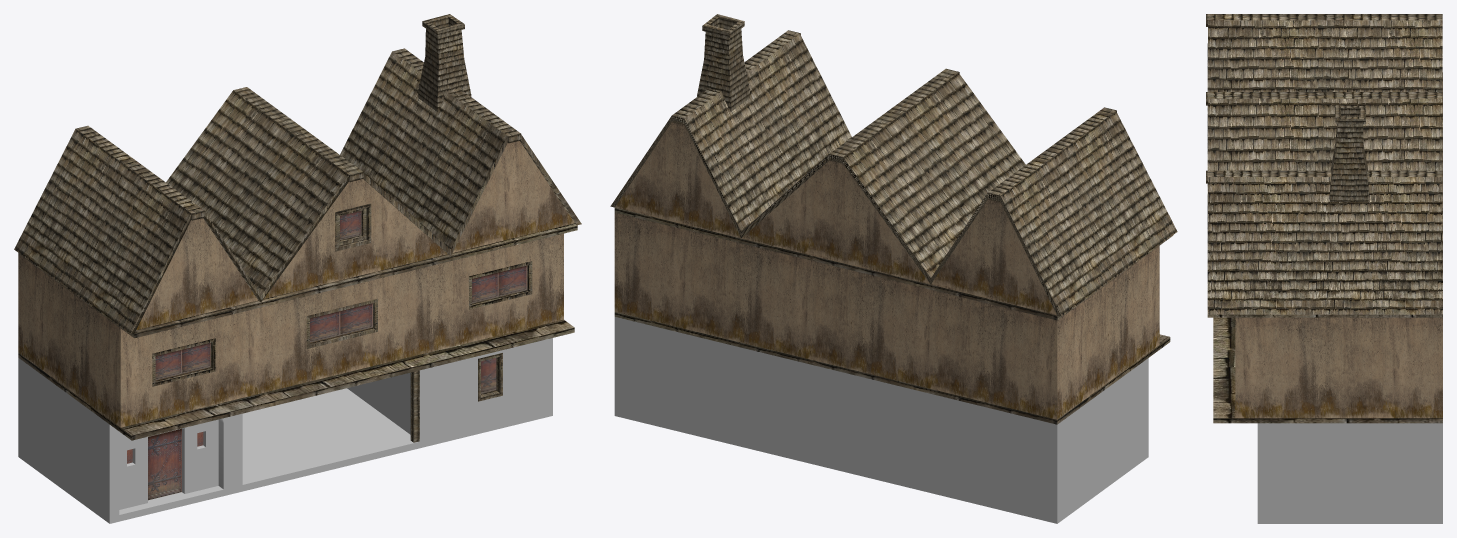
File: f1_house03_lod2.fbx
3 renders of one model, left to right at view 1: azimuth 30°, elevation 25°; view 2: azimuth 150°, elevation 25°; view 3: azimuth 270°, elevation 25°, orthographic.
Visible parts, largest first — view 1: Mesh Object; view 2: Mesh Object; view 3: Mesh Object.
Part boxes in pixels (x1,y1,x2,y2): Mesh Object: (14,14,581,523); Mesh Object: (610,14,1177,523); Mesh Object: (1206,14,1442,523).
Bounding box in the file's own units: 14.28 × 11.35 × 6.39.
